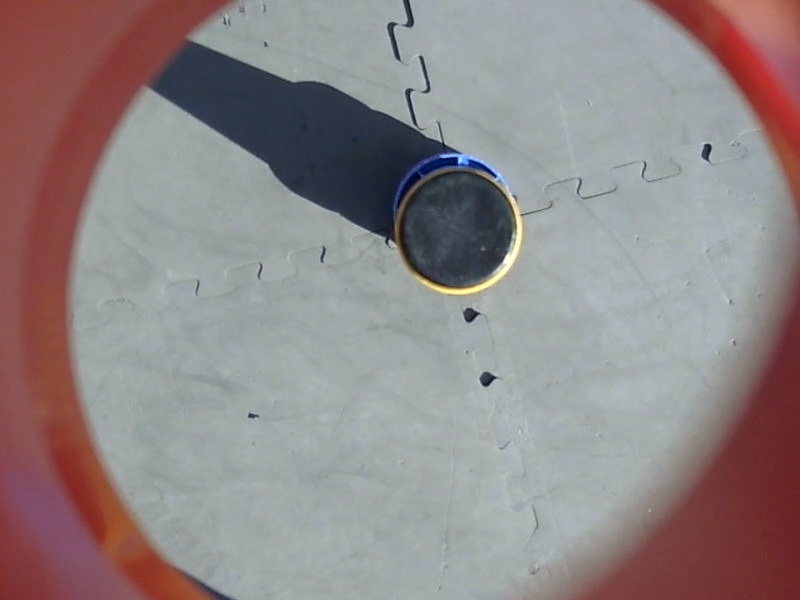tip: (389, 162, 527, 300)
